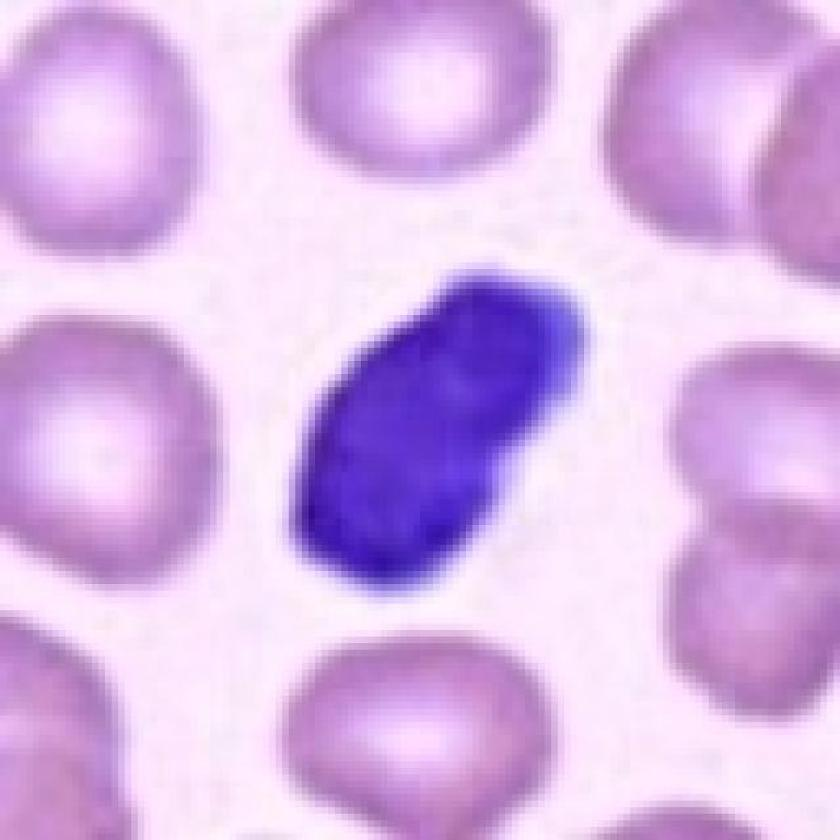lymphocyte: (278, 258, 602, 598)
